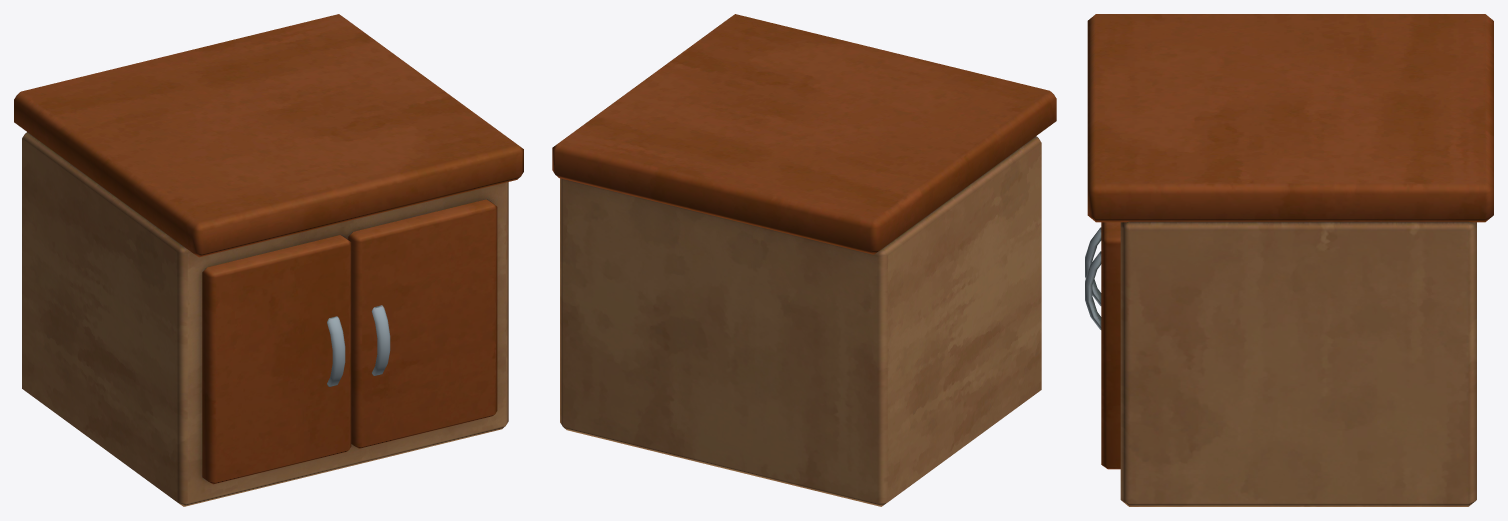
Rendered from ClearCounter_Visual.glb.
The picture shows the model from 3 angles, left to right: view 1: azimuth 30°, elevation 25°; view 2: azimuth 150°, elevation 25°; view 3: azimuth 270°, elevation 25°; orthographic projection. The views are drawn at different scales.
Parts seen in each view (by area): view 1: KitchenCounter; view 2: KitchenCounter; view 3: KitchenCounter.
Part boxes in pixels (<box>): KitchenCounter: <box>14,14,523,506</box>; KitchenCounter: <box>552,14,1056,506</box>; KitchenCounter: <box>1085,14,1493,506</box>.
Bounding box in the file's own units: 1.48 × 1.26 × 1.45.
Materials: 1 (1 with a texture image).
